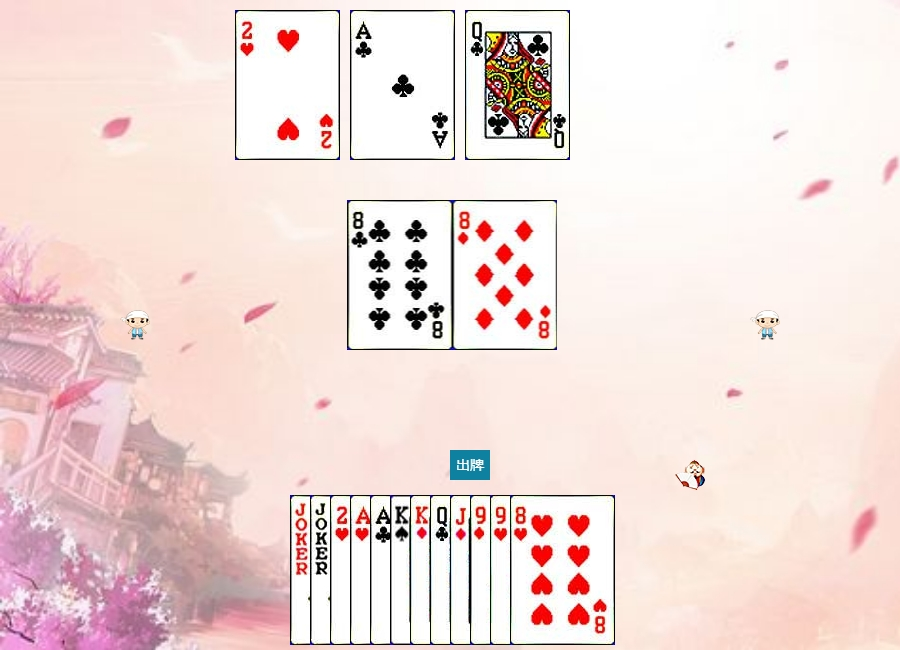11~1: (450, 495, 555, 645)
12~2: (465, 10, 570, 160), (430, 495, 535, 645)
13~1: (410, 495, 515, 645)
13~4: (390, 495, 495, 645)
14~2: (350, 10, 455, 160), (370, 495, 475, 645)
14~3: (350, 495, 455, 645)
15~3: (235, 10, 340, 160), (330, 495, 435, 645)
17~3: (310, 495, 415, 645)
18~4: (290, 495, 395, 645)
8~1: (453, 200, 558, 350)
8~2: (348, 200, 453, 350)
8~3: (510, 495, 615, 645)
9~1: (470, 495, 575, 645)
9~3: (490, 495, 595, 645)
